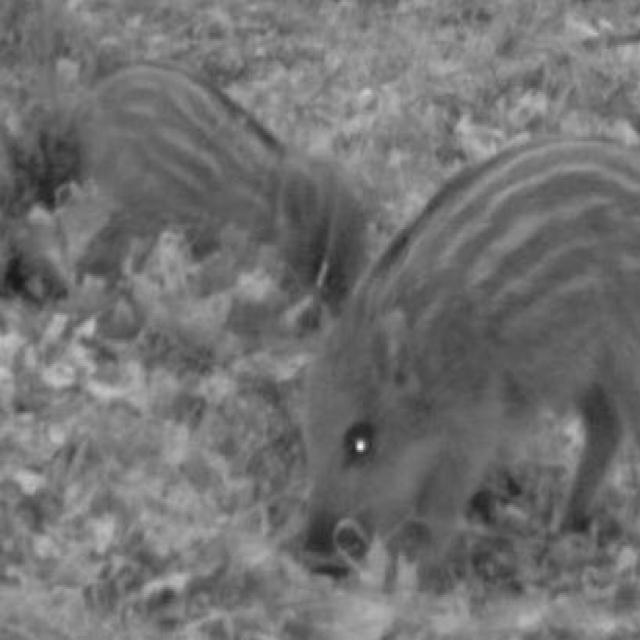pig: (308, 97, 640, 555)
